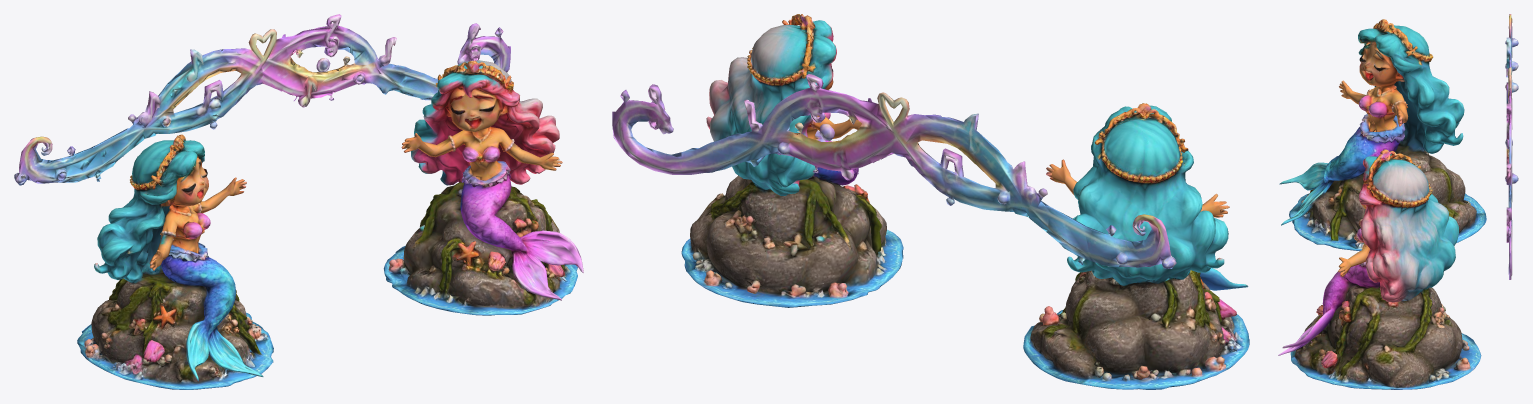
Rendered from crouch_poseidon.glb.
3 renders of one model, left to right at view 1: azimuth 30°, elevation 25°; view 2: azimuth 150°, elevation 25°; view 3: azimuth 270°, elevation 25°, orthographic. The views are drawn at different scales.
Visible parts, largest first — view 1: tripo_node_cccf65a0-487a-487f-85a4-d1bc206488c4; view 2: tripo_node_cccf65a0-487a-487f-85a4-d1bc206488c4; view 3: tripo_node_cccf65a0-487a-487f-85a4-d1bc206488c4.
Boxes of the visible parts, x1,y1,x2,y2 form: tripo_node_cccf65a0-487a-487f-85a4-d1bc206488c4: (14, 14, 583, 389); tripo_node_cccf65a0-487a-487f-85a4-d1bc206488c4: (612, 14, 1249, 389); tripo_node_cccf65a0-487a-487f-85a4-d1bc206488c4: (1278, 14, 1518, 389).
Bounding box in the file's own units: 0.9789 × 0.4408 × 0.4411.
1 material, 1 textured.
